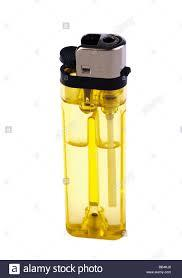lighter: (59, 33, 132, 239)
